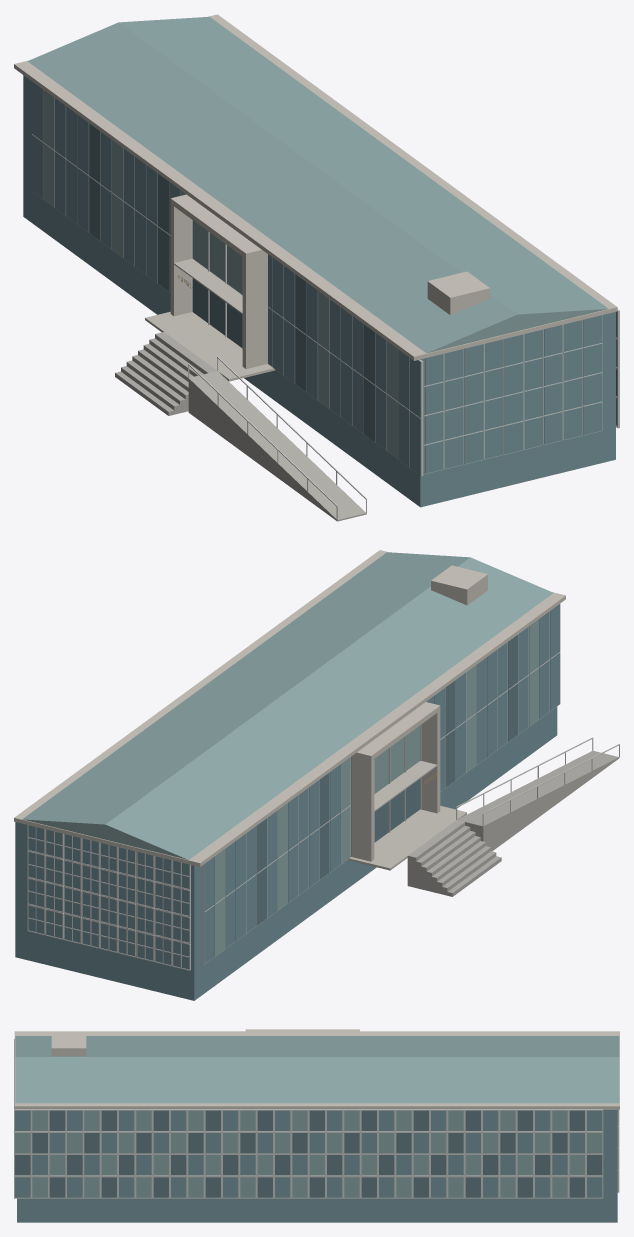
The picture shows the model from 3 angles, top to bottom: view 1: azimuth 30°, elevation 25°; view 2: azimuth 150°, elevation 25°; view 3: azimuth 270°, elevation 25°; orthographic projection. The views are drawn at different scales.
Visible parts, largest first — view 1: art__glass-light, art__glass, art__stone-wall, art__frame, art__ground-stone, art__glass-dark, art__soffit-membrane, art__steps; view 2: art__glass-light, art__glass, art__stone-wall, art__frame, art__glass-dark, art__ground-stone, art__steps, art__soffit-membrane; view 3: art__glass-light, art__glass, art__glass-dark, art__frame, art__stone-wall.
Boxes of the visible parts, x1,y1,x2,y2 form: art__glass-light: [27, 16, 617, 458]; art__glass: [23, 75, 617, 507]; art__stone-wall: [14, 14, 617, 368]; art__frame: [31, 90, 619, 520]; art__ground-stone: [188, 371, 366, 521]; art__glass-dark: [89, 123, 617, 441]; art__soffit-membrane: [145, 259, 275, 381]; art__steps: [115, 332, 216, 415]; art__glass-light: [22, 552, 553, 956]; art__glass: [15, 604, 560, 1000]; art__stone-wall: [14, 550, 565, 866]; art__frame: [27, 611, 619, 970]; art__glass-dark: [256, 634, 518, 925]; art__ground-stone: [457, 750, 619, 851]; art__steps: [407, 820, 501, 896]; art__soffit-membrane: [348, 761, 466, 870]; art__glass-light: [15, 1036, 619, 1197]; art__glass: [15, 1109, 617, 1222]; art__glass-dark: [15, 1110, 602, 1197]; art__frame: [14, 1038, 619, 1198]; art__stone-wall: [14, 1029, 619, 1109].
Bounding box in the file's own units: 22.15 × 13.1 × 52.46.
